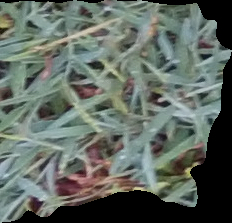grass: (1, 1, 230, 222)
